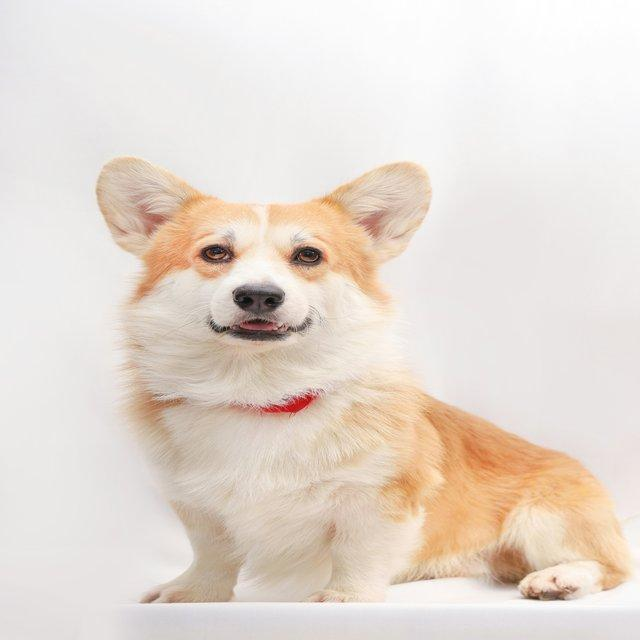corgi: (94, 154, 632, 604)
